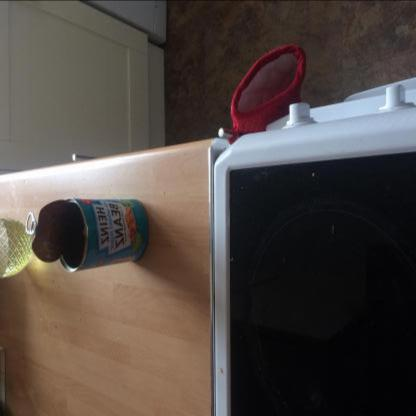Can: (26, 198, 150, 272)
Cup: (0, 218, 33, 279)
Pop tab: (25, 211, 37, 234)
